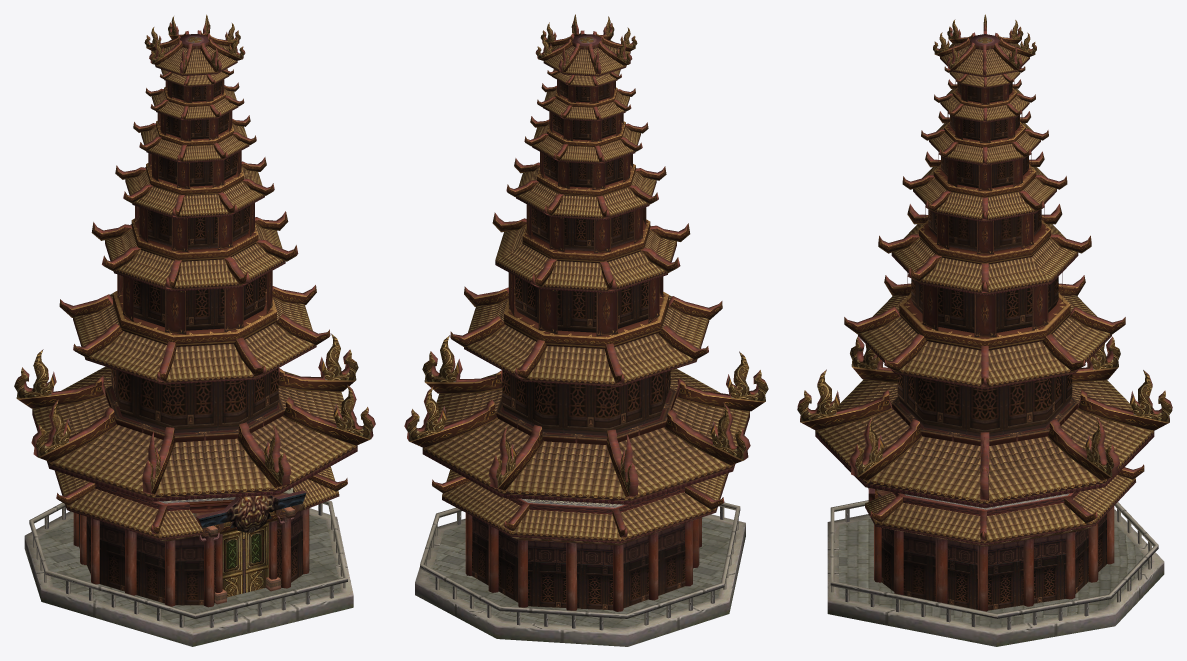
The model's file is ZC_001chenxingge_ta01.FBX.
3 views of the same model, side by side, from view 1: azimuth 30°, elevation 25°; view 2: azimuth 150°, elevation 25°; view 3: azimuth 270°, elevation 25° (orthographic).
Visible parts, largest first — view 1: ZC_001chenxingge_ta02, ZC_001chenxingge_ta01; view 2: ZC_001chenxingge_ta02, ZC_001chenxingge_ta01; view 3: ZC_001chenxingge_ta02, ZC_001chenxingge_ta01.
Part boxes in pixels (box(x1,y1,x2,y2)): ZC_001chenxingge_ta02: box(14, 14, 375, 646); ZC_001chenxingge_ta01: box(32, 39, 357, 540); ZC_001chenxingge_ta02: box(404, 14, 768, 646); ZC_001chenxingge_ta01: box(422, 40, 749, 543); ZC_001chenxingge_ta02: box(797, 14, 1172, 646); ZC_001chenxingge_ta01: box(815, 43, 1154, 545).
Bounding box in the file's own units: 15.81 × 25.24 × 15.81.
